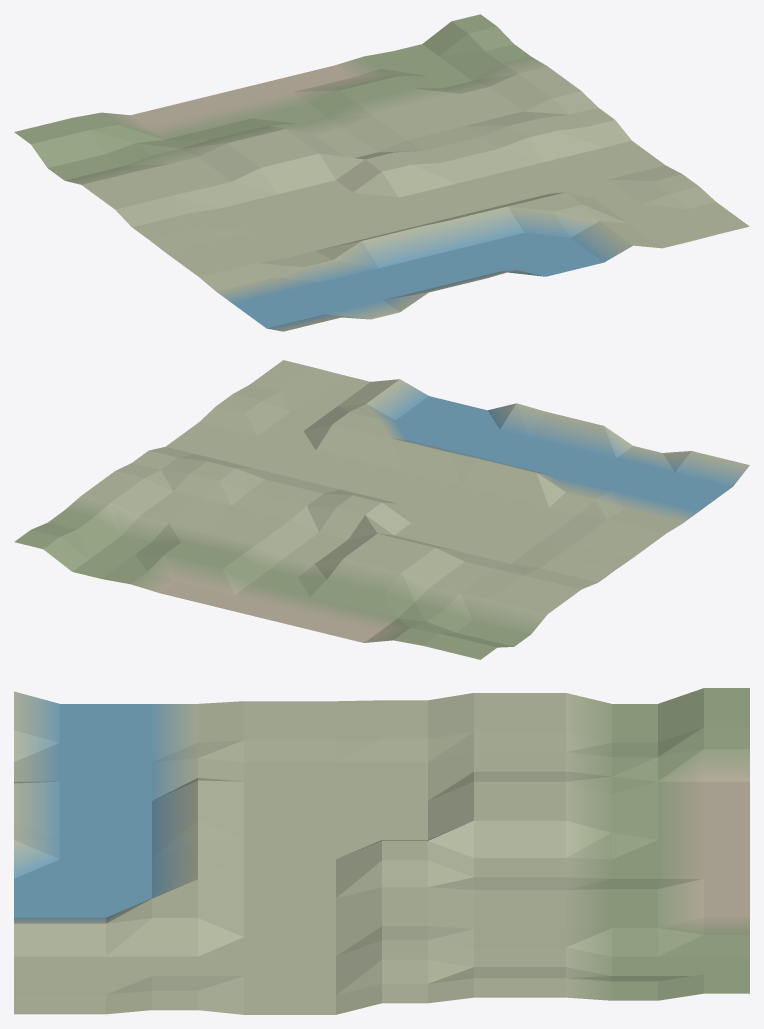
3 views of the same model, one above another, from view 1: azimuth 30°, elevation 25°; view 2: azimuth 150°, elevation 25°; view 3: azimuth 270°, elevation 25° (orthographic). The views are drawn at different scales.
Size of the model in its own units: 32 by 1.02 by 32.
